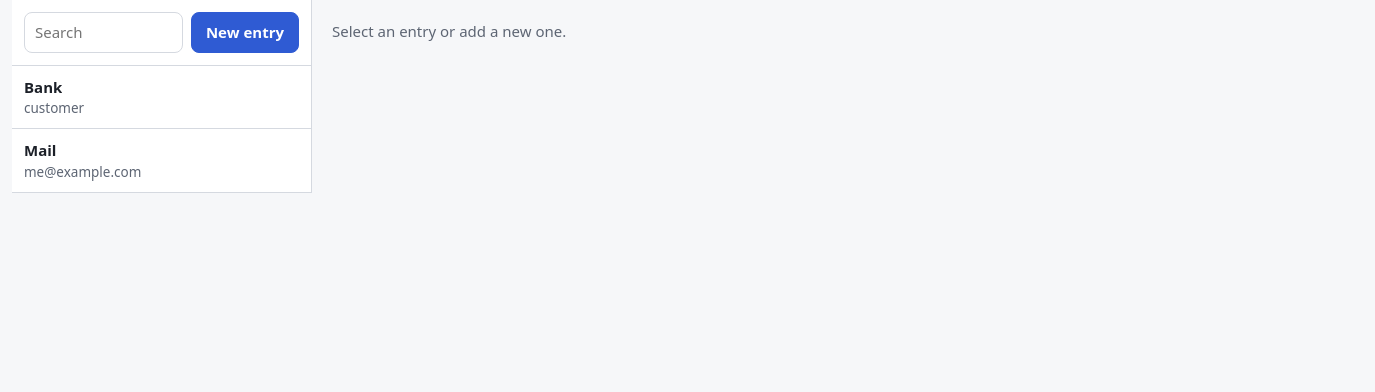
Test case: PasswordsTab › reports copy failures
Click the button "Mail me@example.com".
click(40, 150)  # box [12,129,311,193]
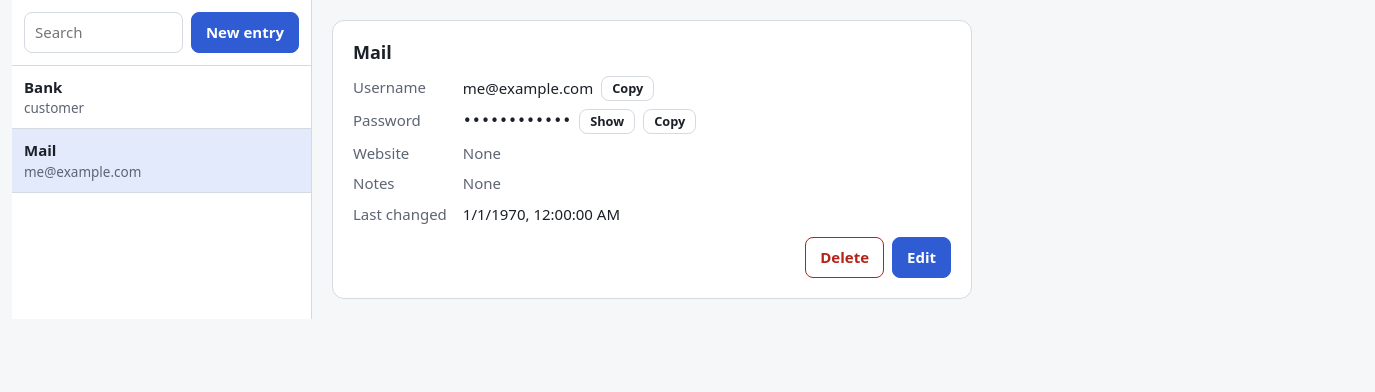
Click the button with aria-label "Copy username".
click(628, 88)  # box [601,76,654,101]
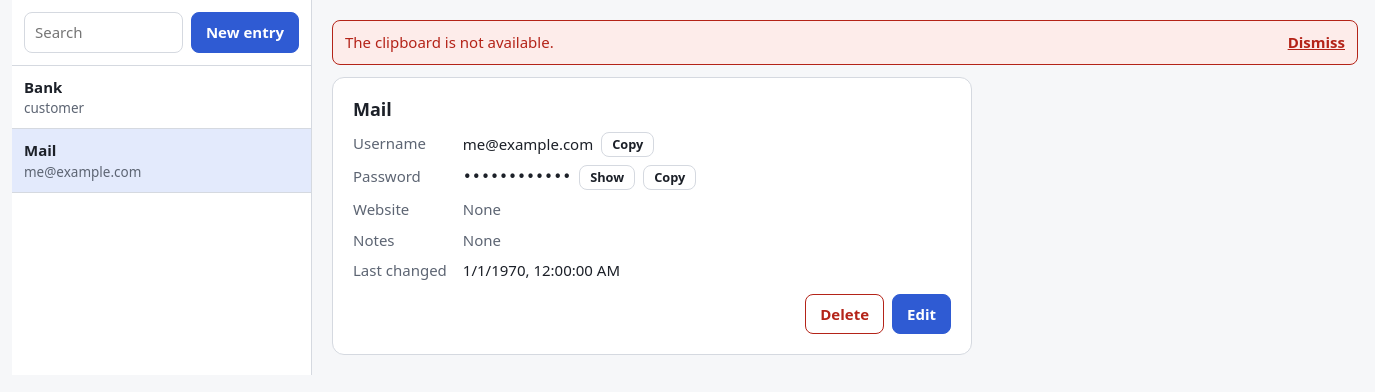
Expected: the message shows "The clipboard is not available.", [345,32,554,52]
